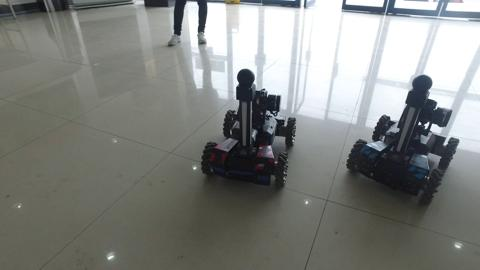chariot: (346, 73, 464, 208), (197, 66, 303, 193)
